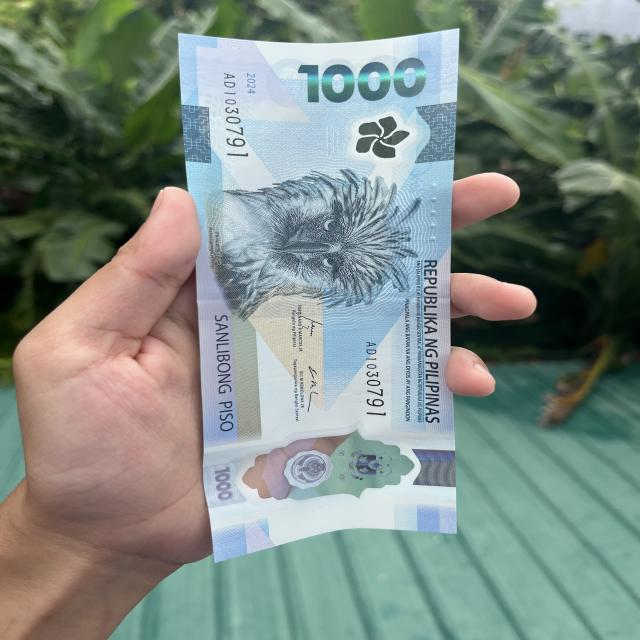clear_window: (237, 432, 420, 509)
eagle: (193, 172, 419, 308)
sampaguita: (311, 107, 420, 170)
security_thread: (192, 277, 450, 311)
serial_number: (218, 68, 263, 161), (360, 332, 398, 425)
value_watermark: (210, 463, 238, 505)
